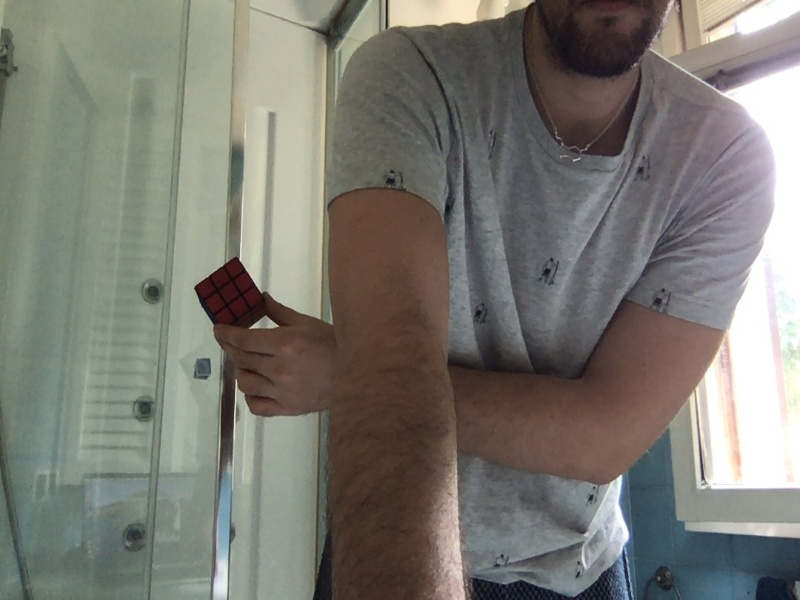rubik: (194, 257, 266, 331)
